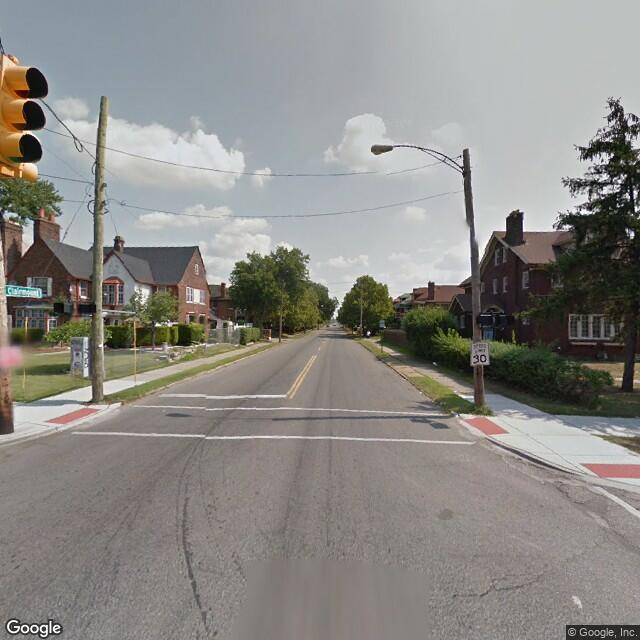litter: (417, 389, 426, 394), (432, 360, 438, 367)
